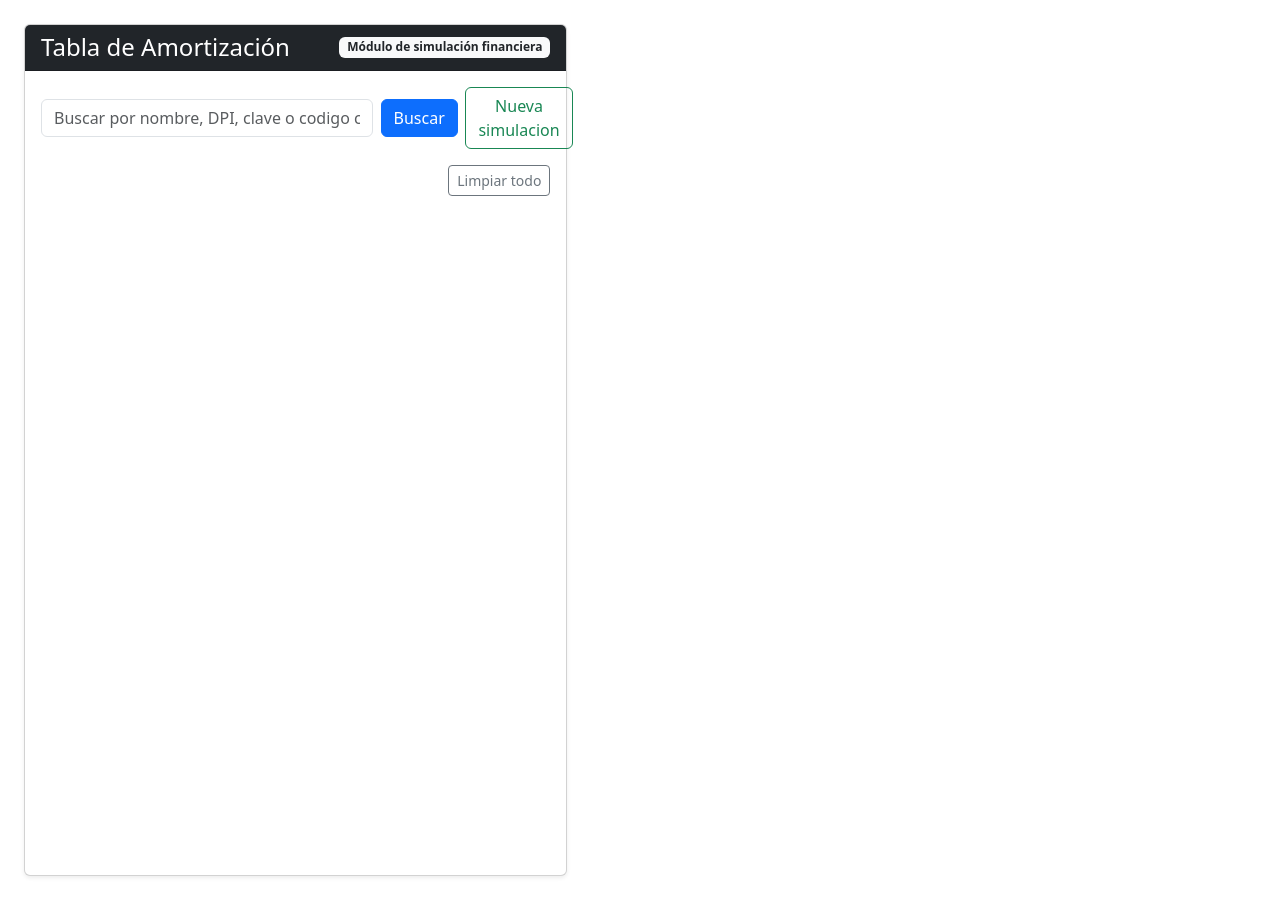
Test: mantiene cobrable la cuota si todavía hay saldo financiado
Type "Cliente" into the field with placeholder "Buscar por nombre, DPI, clave o codigo contrato" at (207, 118), box top-left (41, 99), bottom-right (373, 137)
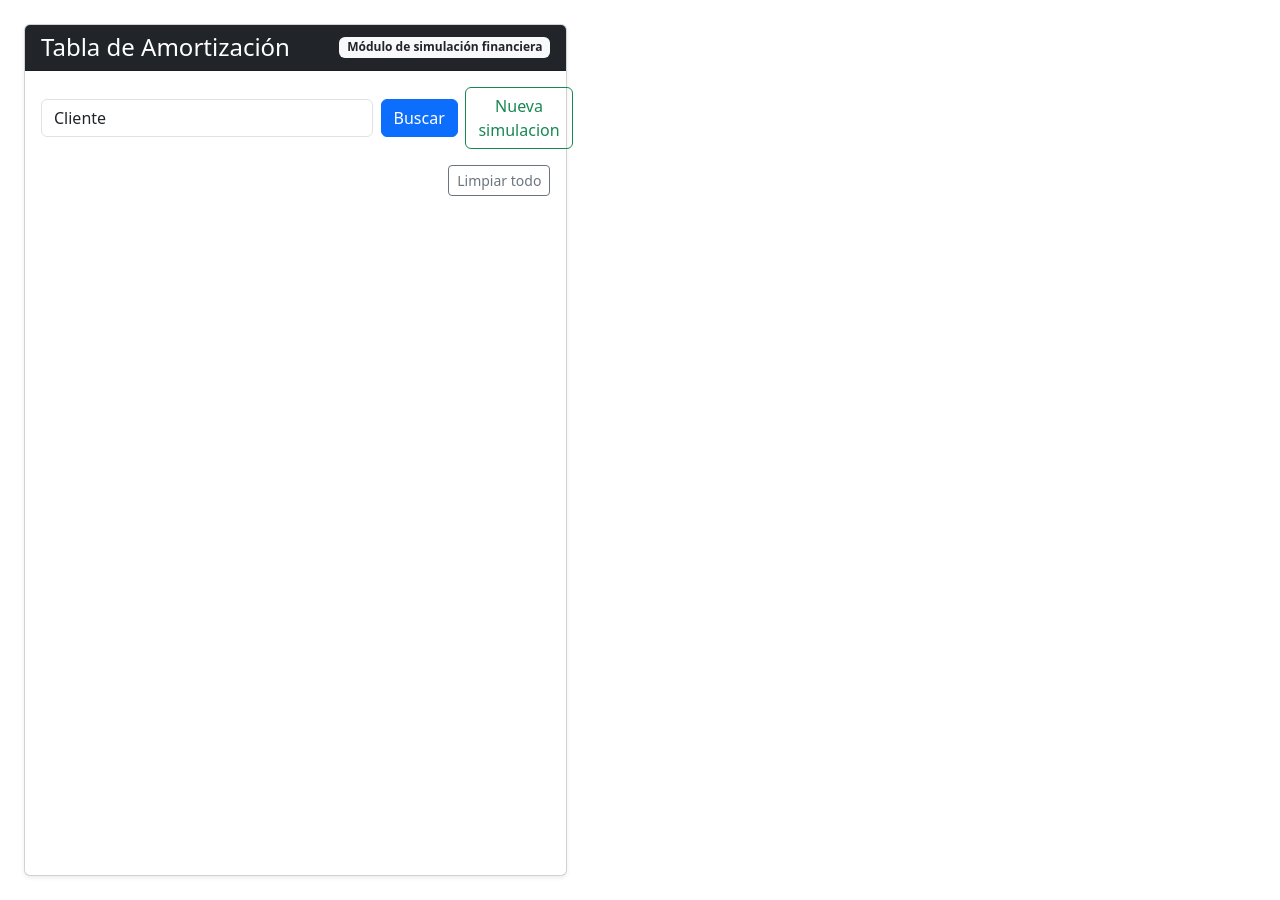
Click the button "Buscar" at (419, 118), box top-left (381, 99), bottom-right (458, 137)
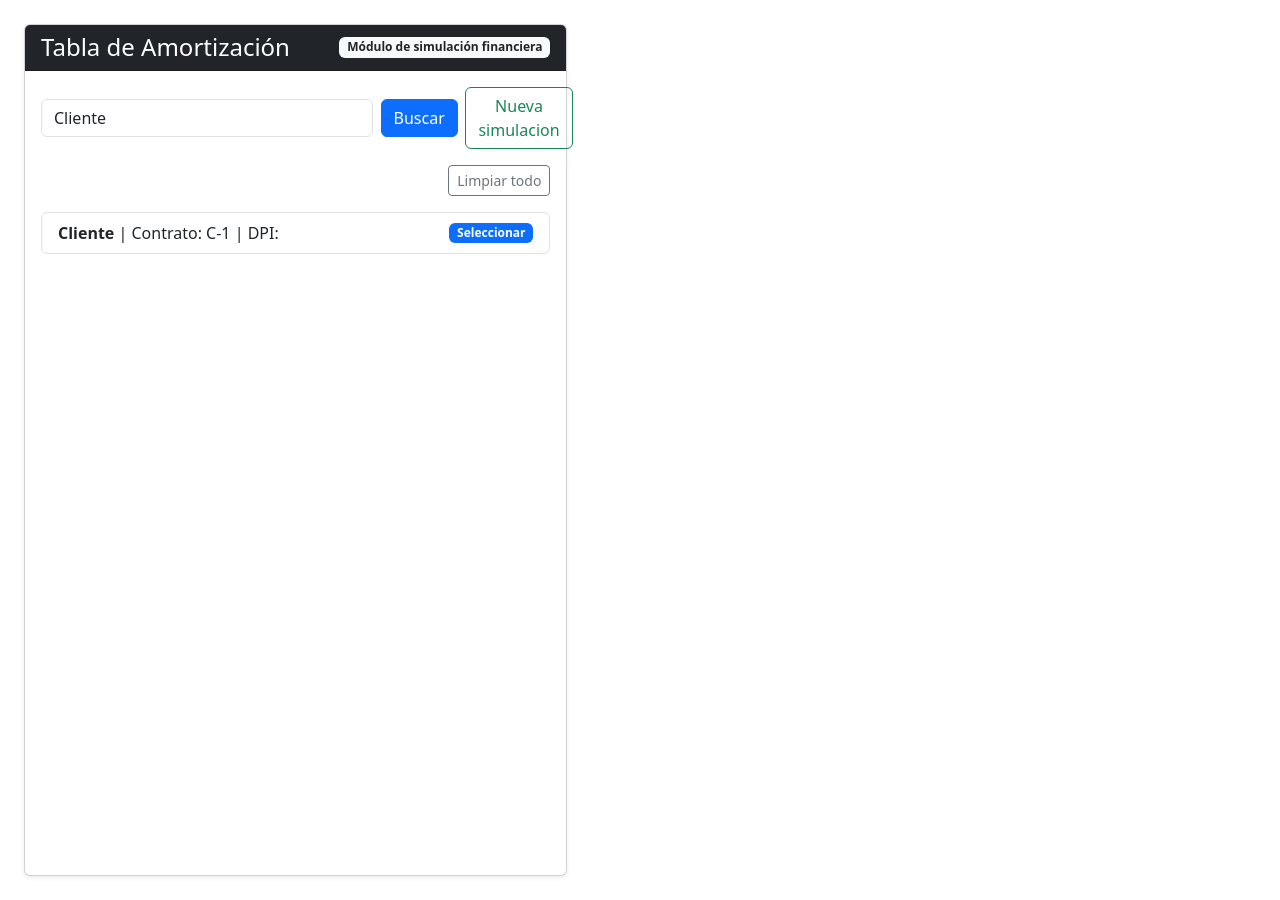
Click the button "Cliente | Contrato: C-1 | DPI: Seleccionar" at (86, 233), box top-left (41, 212), bottom-right (550, 254)
(page scrolled)
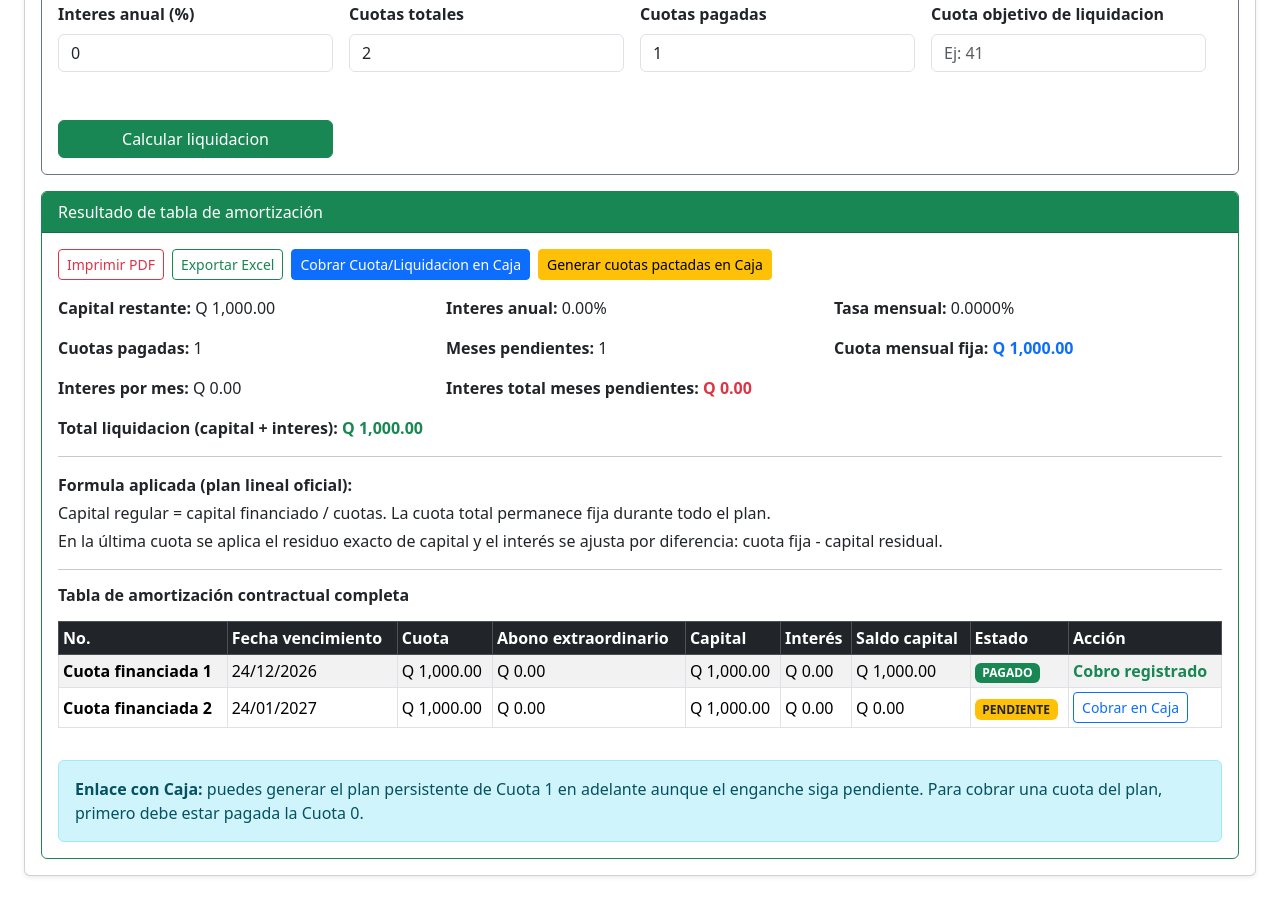
Expected: the text "PENDIENTE" is shown, top-left (974, 699), bottom-right (1058, 720)
Expected: the button "Cobrar en Caja" is shown, top-left (1073, 692), bottom-right (1188, 723)
